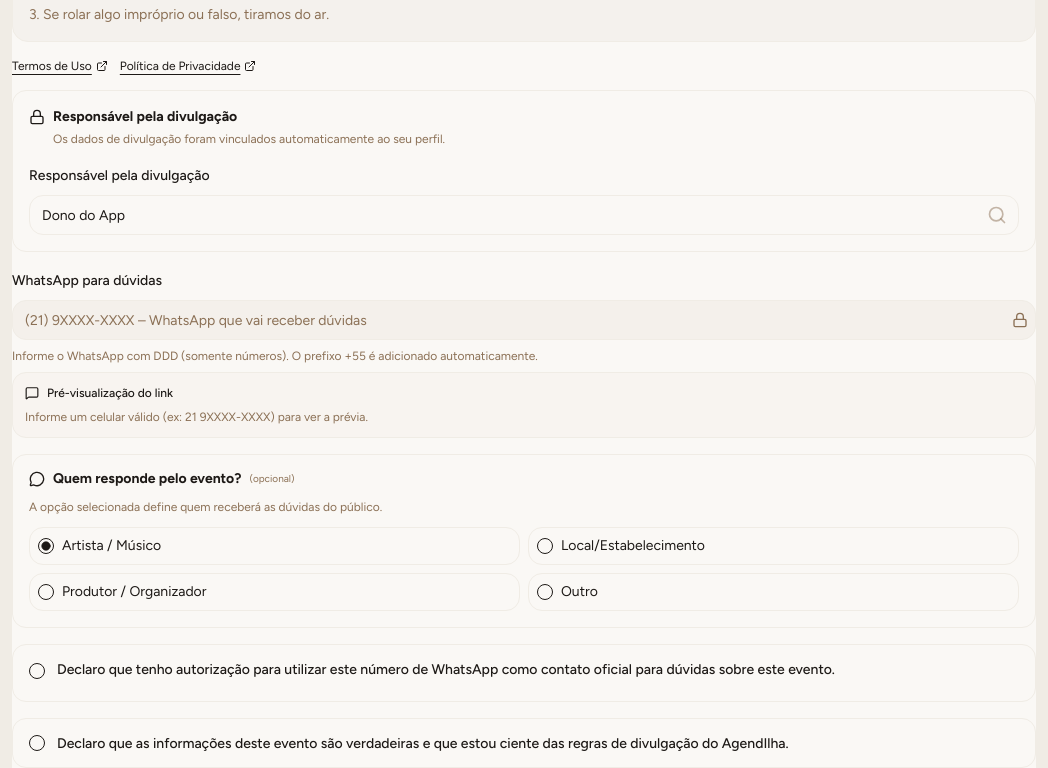
it: LegalStep - Cenários de Borda e Fallback › permite preenchimento manual no modo 'Outro' com sanitização e variados formatos
Later steps or results of the test are not shown.
(page scrolled)
Click the radio button named "Outro" next to "Outro".
click(545, 592)  # box [537,584,553,600]
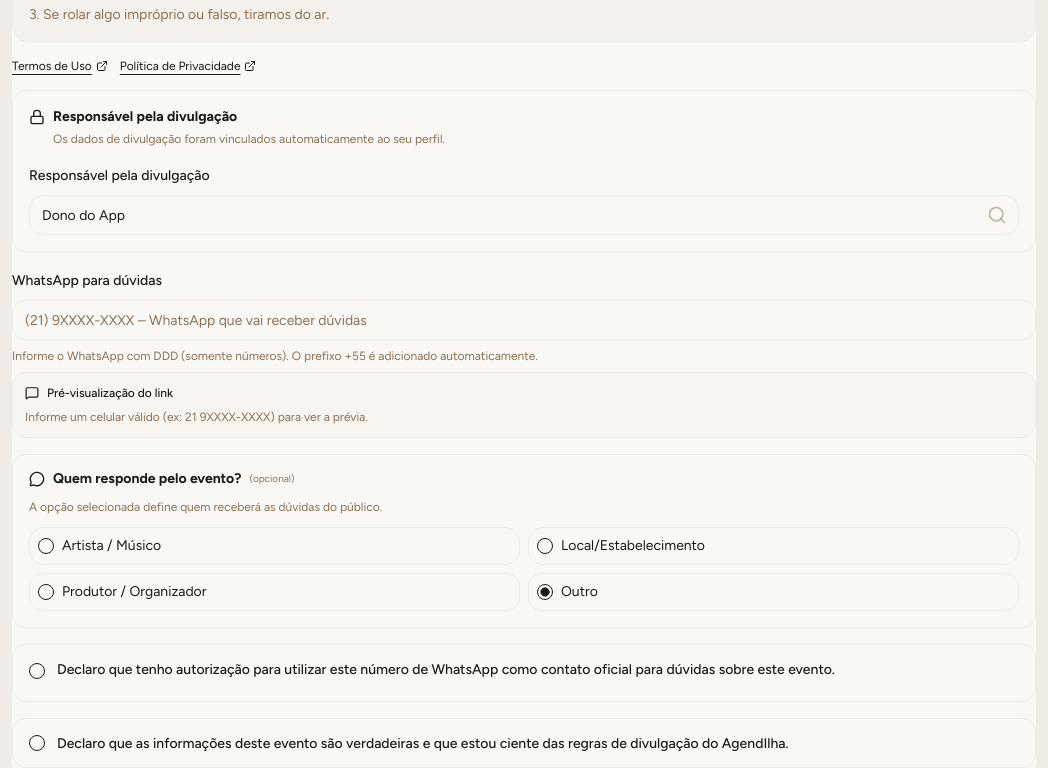
Note: Número com espaços e caracteres não numéricos
Type "21 9 8888 7777" into the field with placeholder "(21) 9XXXX-XXXX – WhatsApp que vai receber dúvidas".
click(524, 320); type("21 9 8888 7777")  # box [12,300,1036,340]
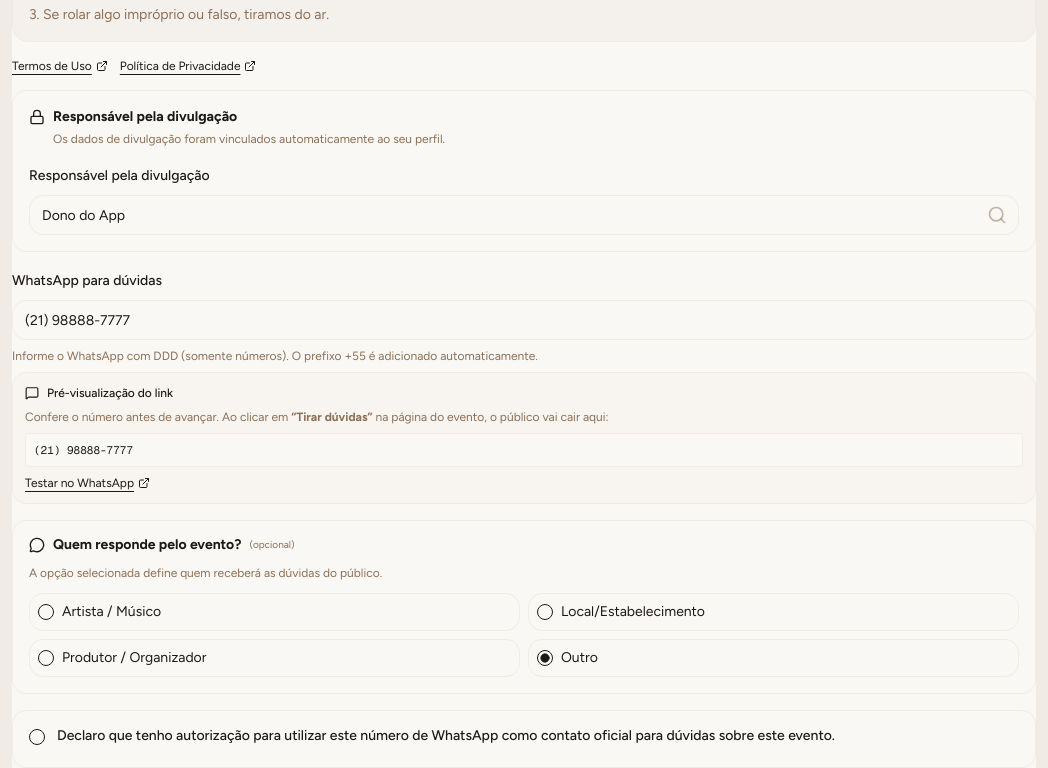
Result: the field with placeholder "(21) 9XXXX-XXXX – WhatsApp que vai receber dúvidas" below "WhatsApp para dúvidas" holds "(21) 98888-7777"
Note: Número com +55 (deve ser sanitizado internamente pelo validate)
Replace the text in the field with placeholder "(21) 9XXXX-XXXX – WhatsApp que vai receber dúvidas" below "WhatsApp para dúvidas" with "+55 21 97777 6666" at x=524, y=320, box [12,300,1036,340]
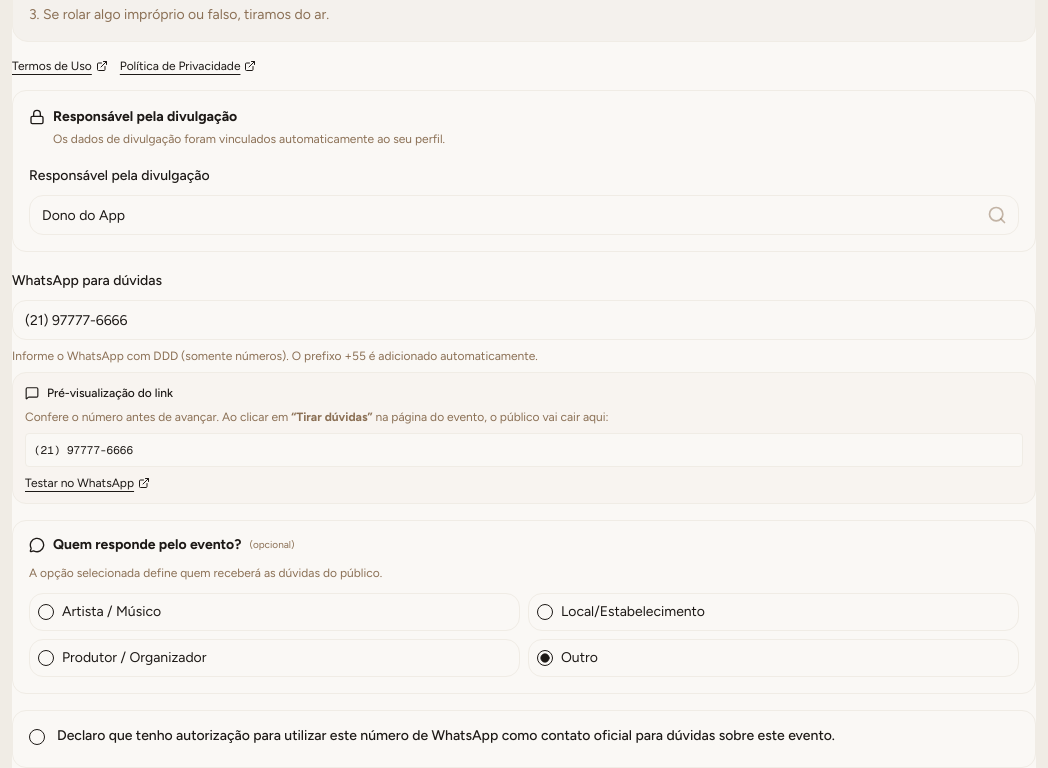
Result: the field with placeholder "(21) 9XXXX-XXXX – WhatsApp que vai receber dúvidas" below "WhatsApp para dúvidas" holds "(21) 97777-6666"
Note: Formato parcial
Replace the text in the field with placeholder "(21) 9XXXX-XXXX – WhatsApp que vai receber dúvidas" below "WhatsApp para dúvidas" with "219" at x=524, y=320, box [12,300,1036,340]
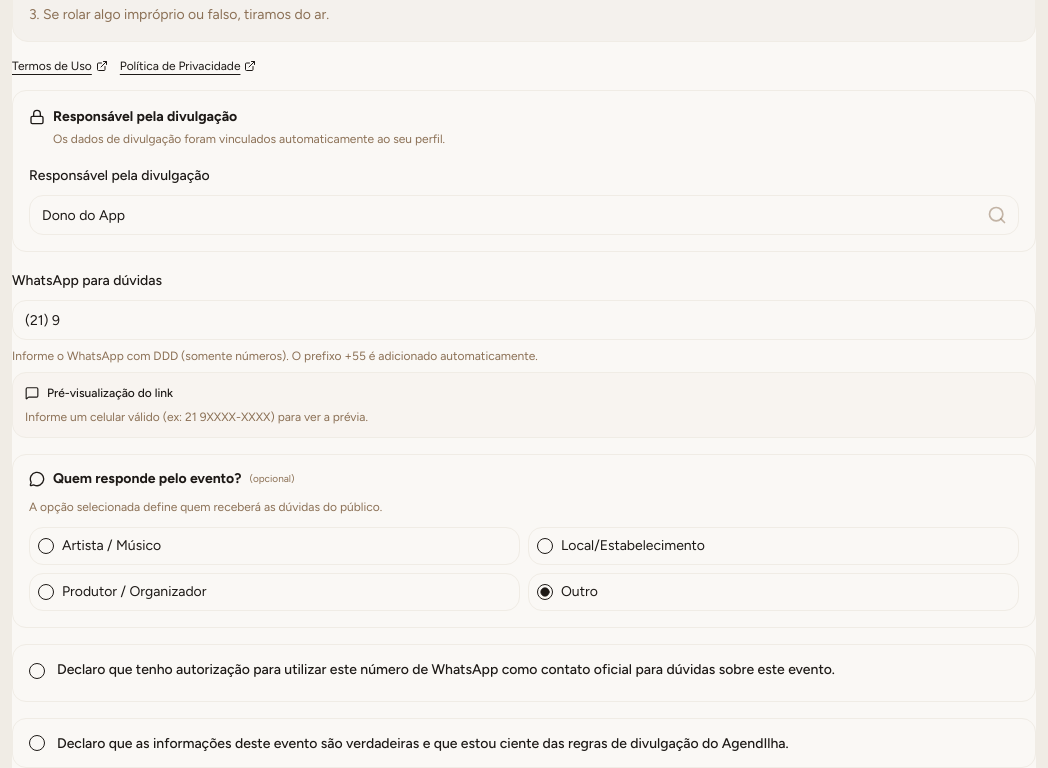
Result: the field with placeholder "(21) 9XXXX-XXXX – WhatsApp que vai receber dúvidas" below "WhatsApp para dúvidas" holds "(21) 9"
Note: Número extra-longo (acima de 11 dígitos, remove máscara rígida mas valida)
Replace the text in the field with placeholder "(21) 9XXXX-XXXX – WhatsApp que vai receber dúvidas" below "WhatsApp para dúvidas" with "21988887777000" at x=524, y=320, box [12,300,1036,340]
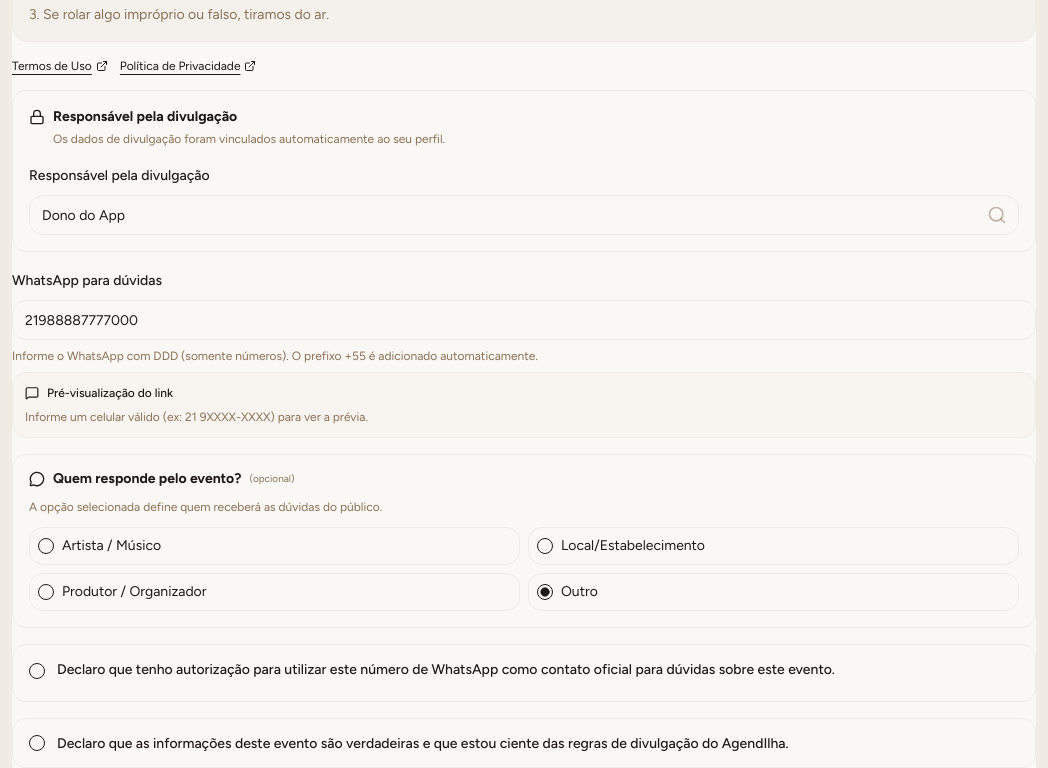
Note: Caracteres inválidos (devem ser removidos ou ignorados se não forem numéricos)
Replace the text in the field with placeholder "(21) 9XXXX-XXXX – WhatsApp que vai receber dúvidas" below "WhatsApp para dúvidas" with "21a9b8888c7777" at x=524, y=320, box [12,300,1036,340]
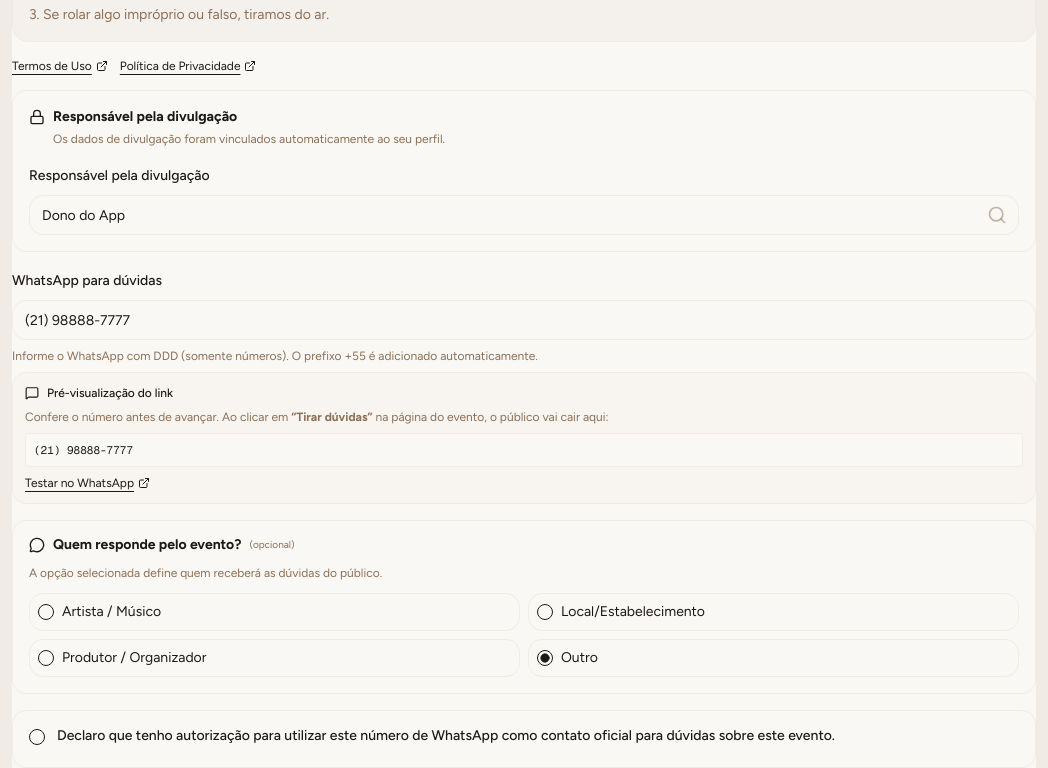
Result: the field with placeholder "(21) 9XXXX-XXXX – WhatsApp que vai receber dúvidas" below "WhatsApp para dúvidas" holds "(21) 98888-7777" at [12,300,1036,340]
